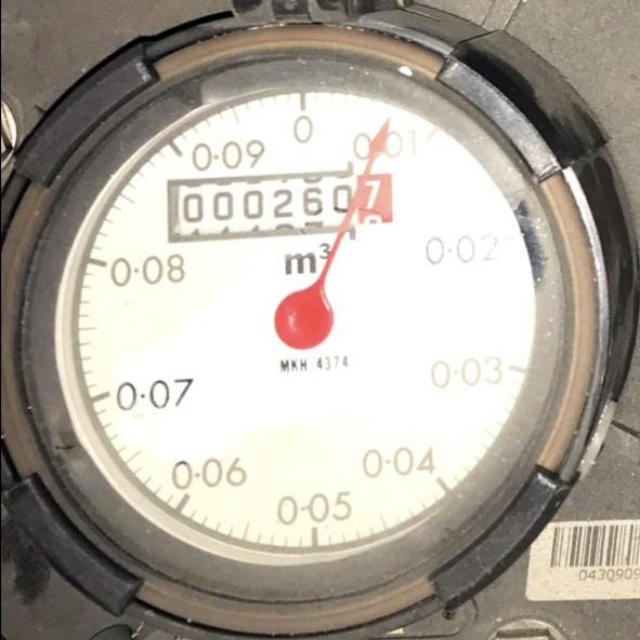gaz_meter: (50, 90, 546, 561)
indication: (167, 168, 393, 243)
